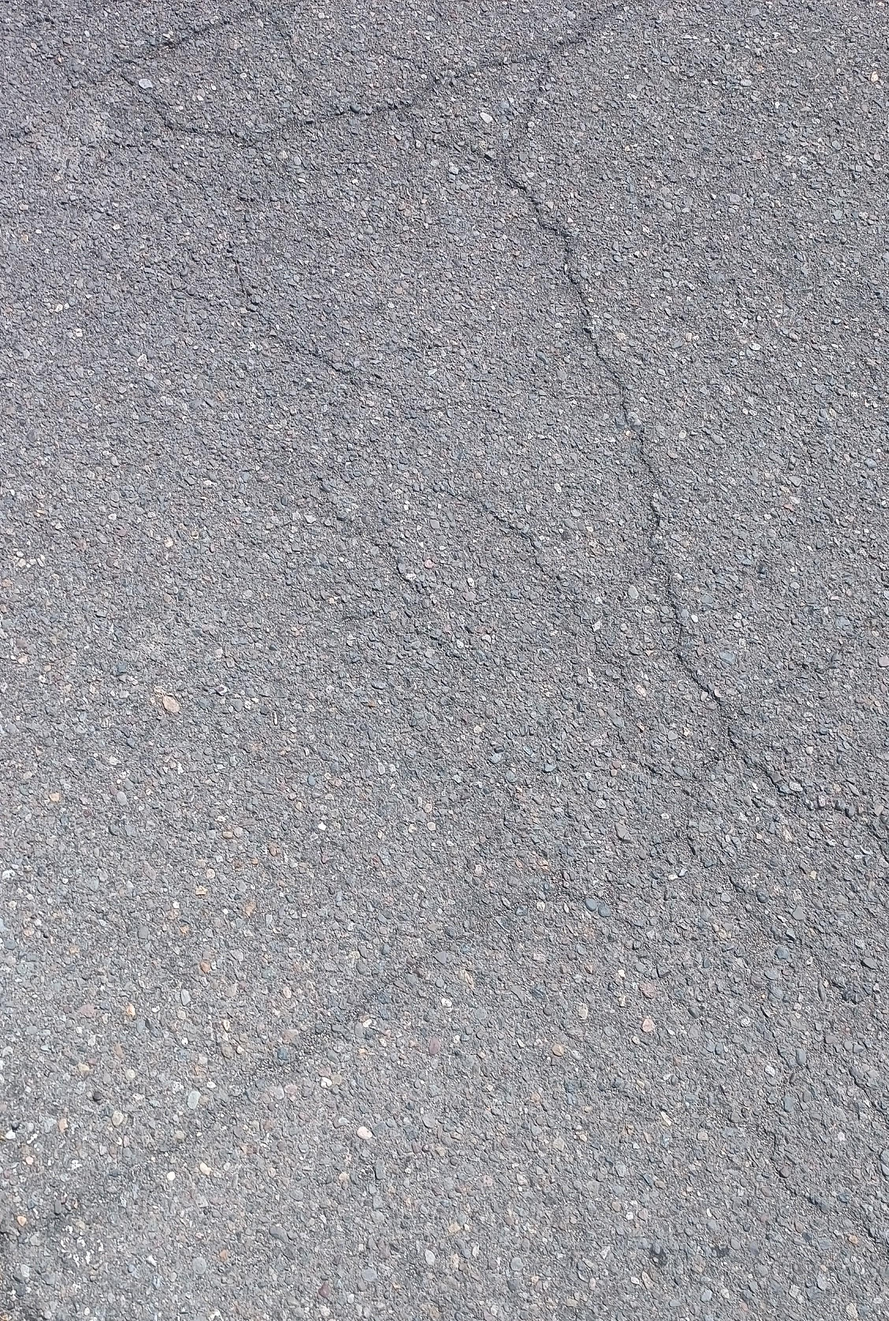GRIETA: (518, 187, 663, 537)
PIEL DE COCODRILO: (237, 463, 889, 1258), (0, 0, 560, 328)
